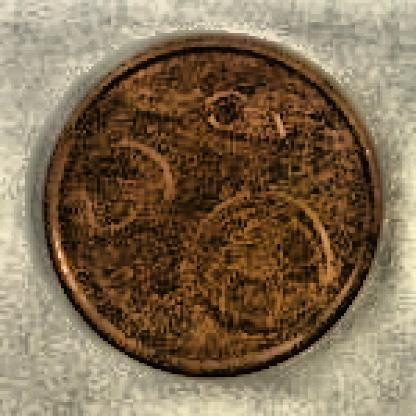coin: (43, 33, 385, 379)
